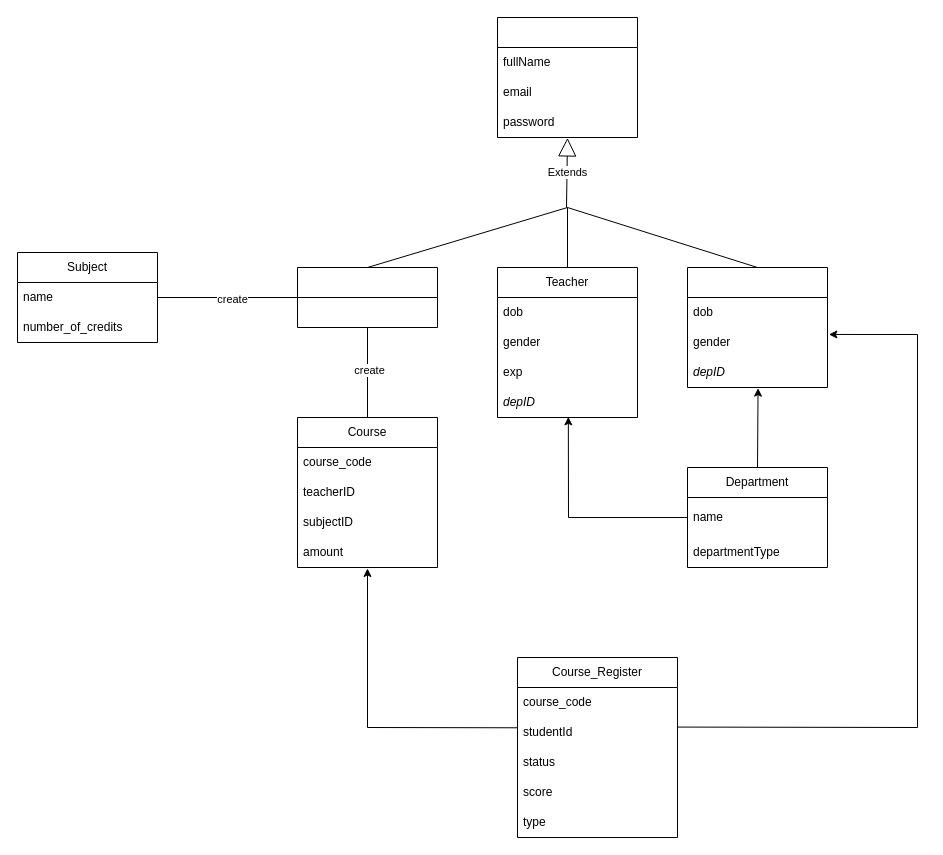
This 943x855 diagram has some shape labels left out. Each missing label, with the box of its shape:
Admin: (296, 266, 438, 328)
Student: (686, 266, 828, 388)
User: (496, 16, 638, 138)
